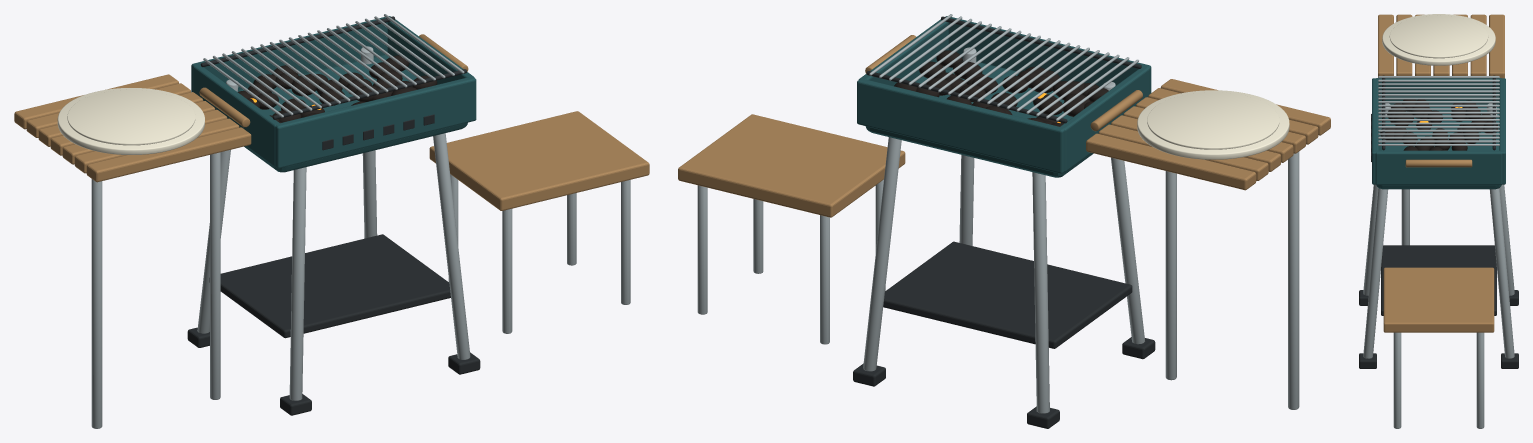
Rendered from station.glb.
The picture shows the model from 3 angles, left to right: view 1: azimuth 30°, elevation 25°; view 2: azimuth 150°, elevation 25°; view 3: azimuth 270°, elevation 25°; orthographic projection. The views are drawn at different scales.
Parts seen in each view (by area): view 1: Brushed stainless.003, Warm ash wood.004, Deep teal enamel.003, Cast iron.003, Warm porcelain.003, Charcoal.004; view 2: Brushed stainless.003, Warm ash wood.004, Deep teal enamel.003, Cast iron.003, Warm porcelain.003, Charcoal.004; view 3: Brushed stainless.003, Warm ash wood.004, Deep teal enamel.003, Warm porcelain.003, Cast iron.003, Charcoal.004.
Boxes of the visible parts, x1,y1,x2,y2 form: Brushed stainless.003: (91, 14, 630, 428); Warm ash wood.004: (14, 34, 649, 210); Deep teal enamel.003: (191, 16, 476, 172); Cast iron.003: (187, 16, 480, 415); Warm porcelain.003: (57, 87, 204, 154); Charcoal.004: (238, 55, 437, 122); Brushed stainless.003: (697, 14, 1299, 413); Warm ash wood.004: (678, 35, 1330, 217); Deep teal enamel.003: (857, 16, 1151, 177); Cast iron.003: (853, 16, 1155, 428); Warm porcelain.003: (1137, 90, 1289, 159); Charcoal.004: (894, 50, 1108, 126); Brushed stainless.003: (1363, 76, 1514, 428); Warm ash wood.004: (1378, 14, 1504, 332); Deep teal enamel.003: (1372, 78, 1505, 189); Warm porcelain.003: (1382, 14, 1495, 65); Cast iron.003: (1359, 75, 1518, 368); Charcoal.004: (1380, 99, 1498, 150).
Bounding box in the file's own units: 1.79 × 0.8925 × 0.578.
